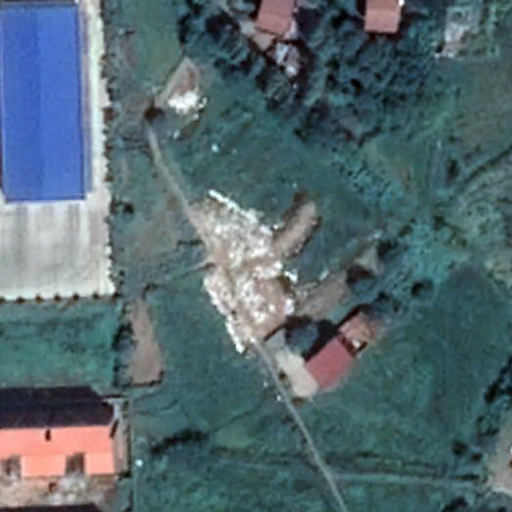msw: (200, 192, 292, 345)
